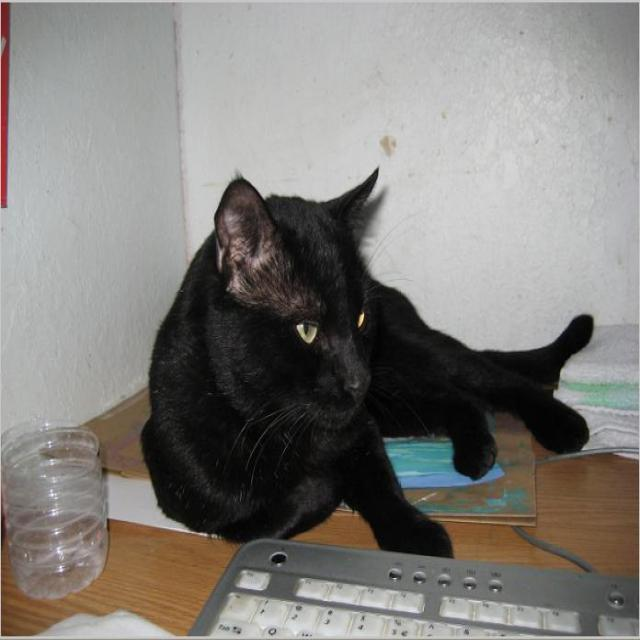Bombay: (203, 159, 398, 452)
